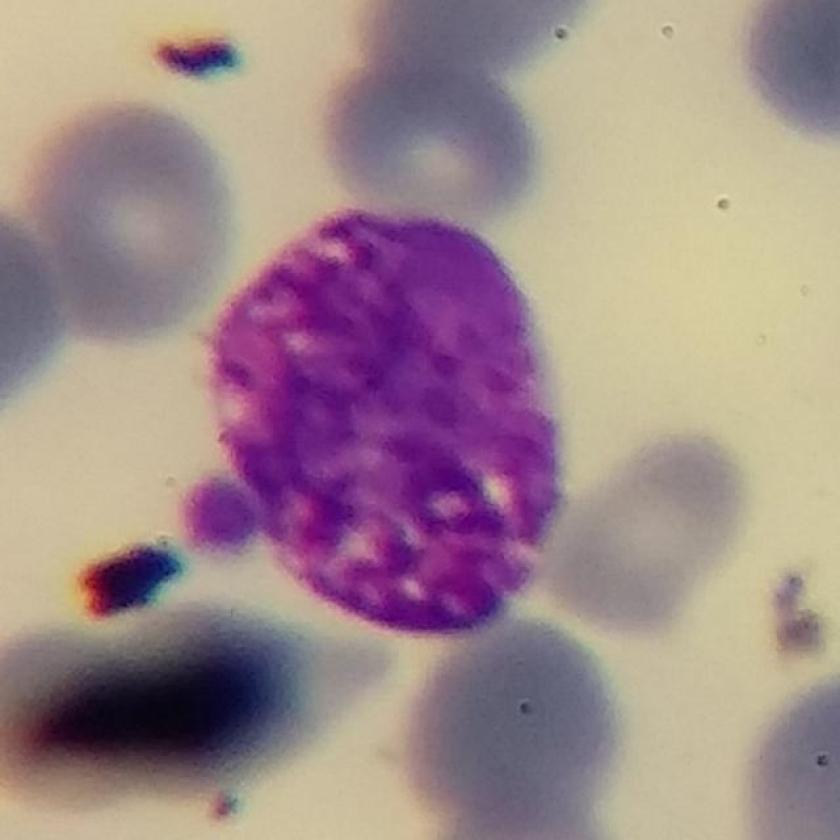basophil: (189, 186, 589, 648)
